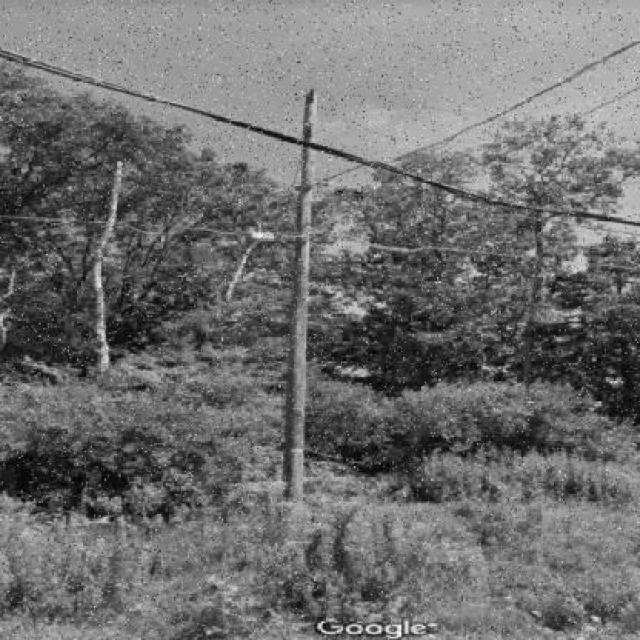pole: (282, 91, 315, 503)
wire: (0, 49, 640, 225), (315, 36, 640, 190), (380, 83, 640, 209)
